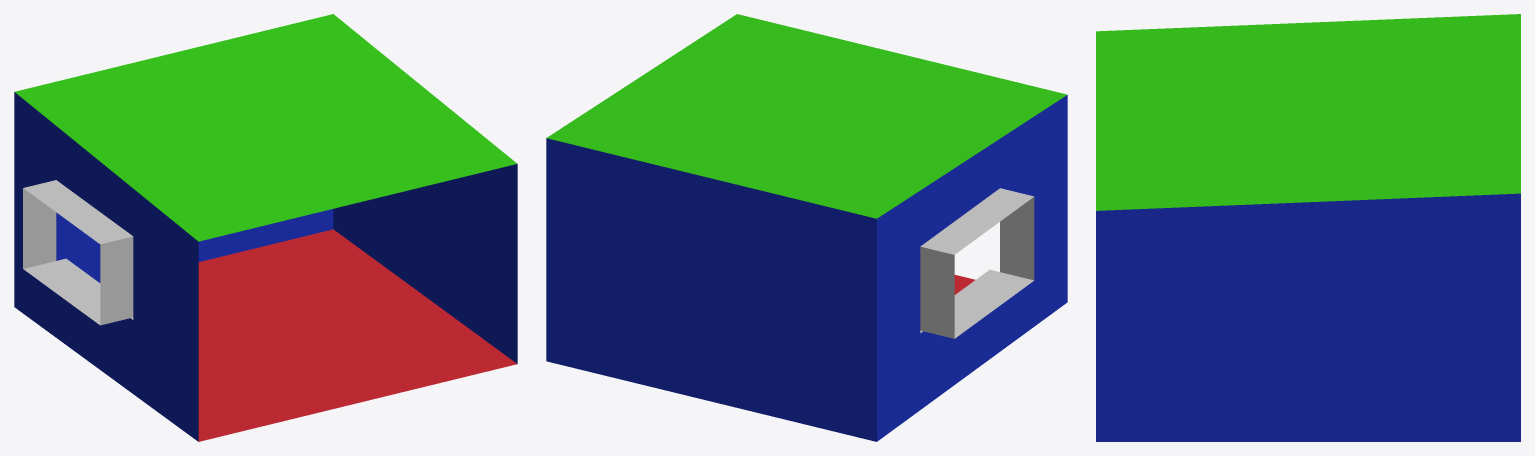
File: kuhnya new - lampa and kamera.fbx
The picture shows the model from 3 angles, left to right: view 1: azimuth 30°, elevation 25°; view 2: azimuth 150°, elevation 25°; view 3: azimuth 270°, elevation 25°; orthographic projection. The views are drawn at different scales.
Visible parts, largest first — view 1: Куб; view 2: Куб; view 3: Куб.
Part boxes in pixels (<box>): Куб: <box>14,14,517,441</box>; Куб: <box>546,14,1067,441</box>; Куб: <box>1096,14,1520,441</box>.
Bounding box in the file's own units: 1104 × 645 × 1000.
